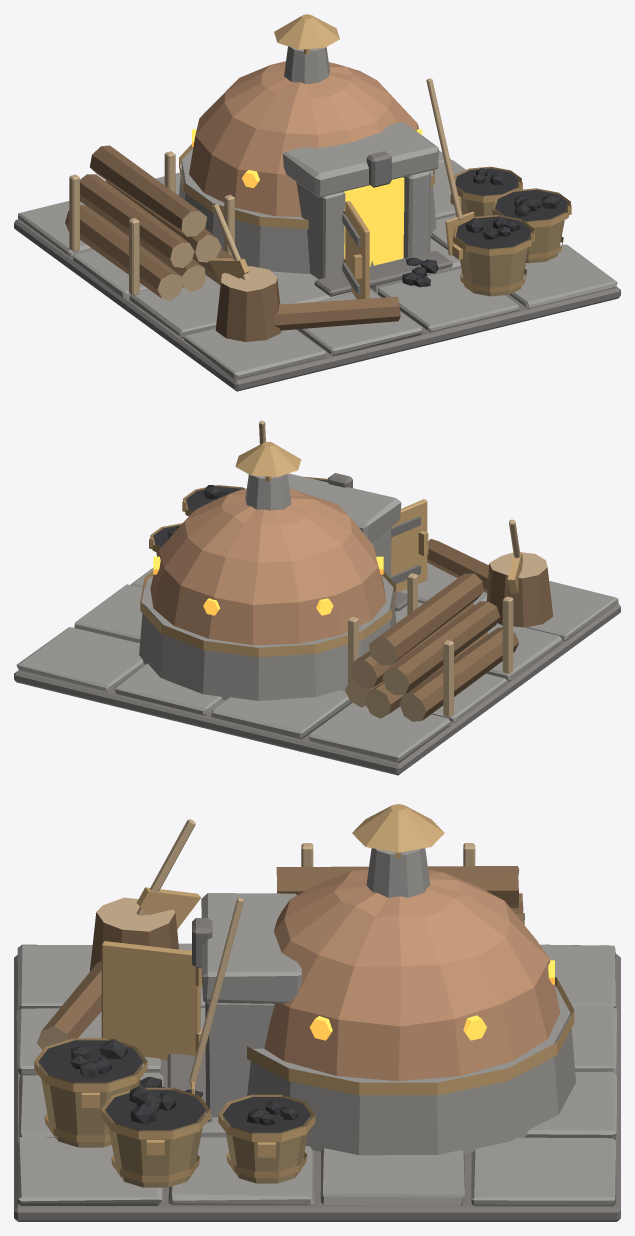
File: furnace.glb
The picture shows the model from 3 angles, top to bottom: view 1: azimuth 30°, elevation 25°; view 2: azimuth 150°, elevation 25°; view 3: azimuth 270°, elevation 25°; orthographic projection. The views are drawn at different scales.
Visible parts, largest first — view 1: kiln_dome, floor_base, kiln_door_lintel, kiln_base, floor_flagstone_20, basket_charcoal_0, floor_flagstone_00, chopping_stump, log_5, log_3, floor_flagstone_30, kiln_firebox (+27 smaller); view 2: kiln_dome, kiln_base, floor_base, floor_flagstone_33, floor_flagstone_03, floor_flagstone_13, log_5, log_3, chopping_stump, log_0, kiln_door_lintel, kiln_band (+17 smaller); view 3: kiln_dome, kiln_base, floor_base, kiln_door, floor_flagstone_33, kiln_door_lintel, floor_flagstone_32, floor_flagstone_30, basket_charcoal_1, basket_charcoal_0, floor_flagstone_31, kiln_door_pillar_r (+23 smaller).
Part boxes in pixels (box(x1,y1,x2,y2)): kiln_dome: box(189, 61, 418, 216); floor_base: box(14, 219, 620, 391); kiln_door_lintel: box(283, 121, 438, 197); kiln_base: box(179, 148, 436, 274); floor_flagstone_20: box(377, 268, 520, 332); basket_charcoal_0: box(456, 216, 531, 296); floor_flagstone_00: box(184, 328, 326, 379); chopping_stump: box(215, 266, 280, 341); log_5: box(90, 145, 206, 236); log_3: box(80, 174, 194, 267); floor_flagstone_30: box(509, 244, 617, 308); kiln_firebox: box(343, 177, 404, 266); kiln_dome: box(150, 488, 386, 645); kiln_base: box(139, 574, 396, 700); floor_base: box(14, 604, 620, 775); floor_flagstone_33: box(16, 627, 145, 691); floor_flagstone_03: box(308, 703, 450, 763); floor_flagstone_13: box(211, 690, 351, 739); log_5: box(369, 573, 482, 665); log_3: box(382, 601, 499, 694); chopping_stump: box(487, 552, 553, 627); log_0: box(399, 627, 518, 721); kiln_door_lintel: box(287, 473, 401, 541); kiln_band: box(140, 571, 396, 657); kiln_dome: box(264, 869, 560, 1081); kiln_base: box(247, 985, 575, 1155); floor_base: box(14, 954, 620, 1221); kiln_door: box(101, 941, 205, 1060); floor_flagstone_33: box(471, 1137, 616, 1206); kiln_door_lintel: box(201, 893, 301, 1003); floor_flagstone_32: box(320, 1148, 465, 1205); floor_flagstone_30: box(16, 1137, 162, 1205); basket_charcoal_1: box(105, 1086, 205, 1187); basket_charcoal_0: box(38, 1039, 143, 1147); floor_flagstone_31: box(168, 1137, 314, 1205); kiln_door_pillar_r: box(205, 1002, 274, 1117).
Size of what is drawn, in the model's own units: 3 by 1.64 by 3.
